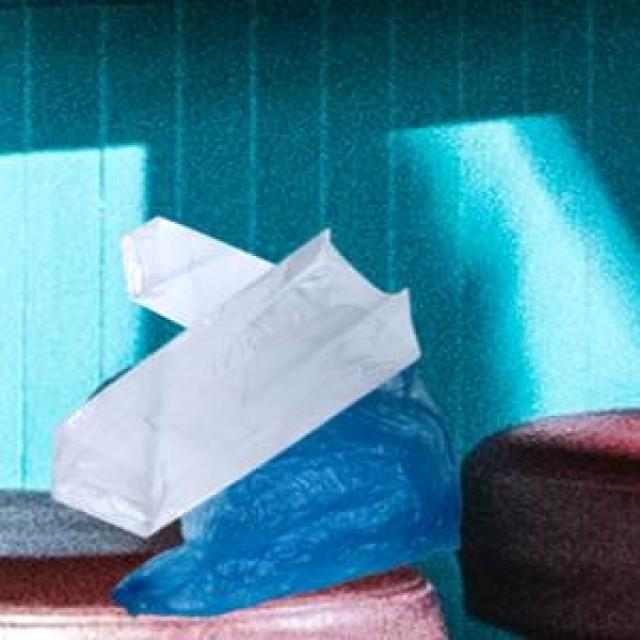Plastic_Bag: (48, 228, 417, 534), (86, 360, 458, 614), (116, 214, 272, 326)
